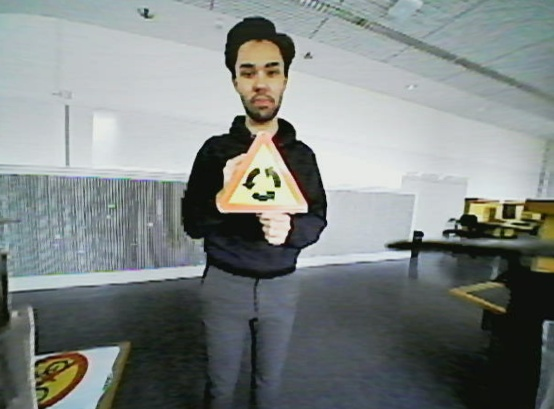roundabout_warning: (214, 131, 317, 218)
